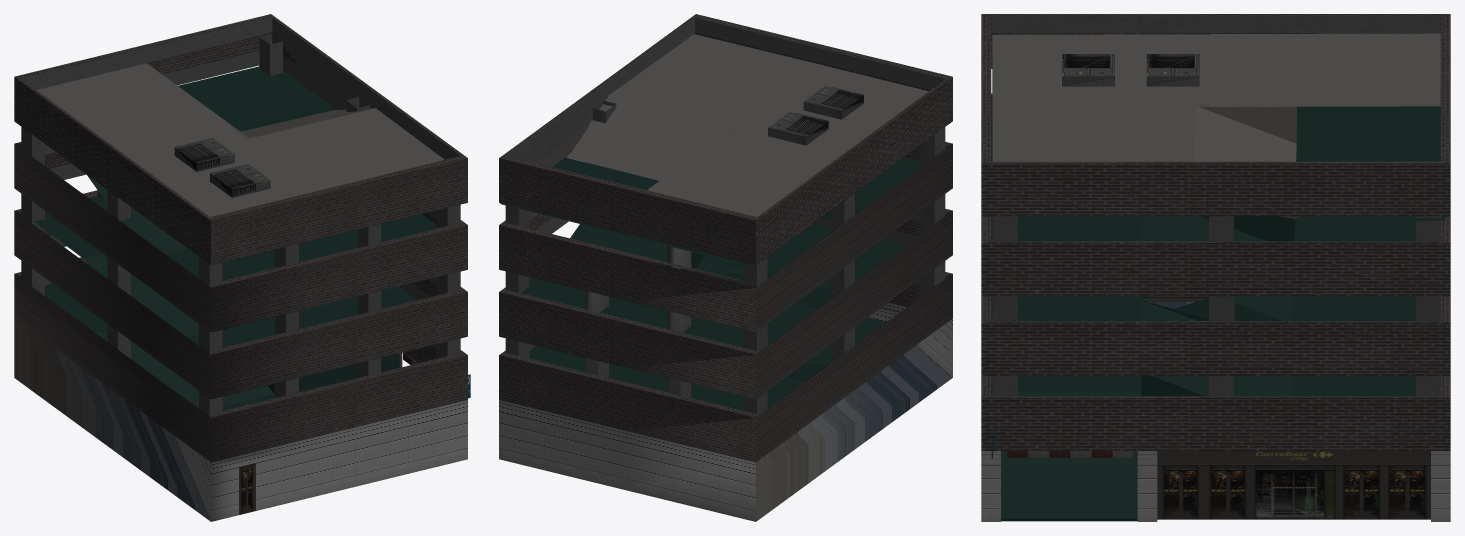
File: edificio.5.fbx
The picture shows the model from 3 angles, left to right: view 1: azimuth 30°, elevation 25°; view 2: azimuth 150°, elevation 25°; view 3: azimuth 270°, elevation 25°; orthographic projection. The views are drawn at different scales.
Parts seen in each view (by area): view 1: Edificio_6.001, Cube; view 2: Edificio_6.001, Cube; view 3: Edificio_6.001, Cube.
Boxes of the visible parts, x1=… form: Edificio_6.001: x1=14, y1=14, x2=470, y2=521; Cube: x1=35, y1=66, x2=436, y2=410; Edificio_6.001: x1=499, y1=14, x2=952, y2=521; Cube: x1=500, y1=157, x2=921, y2=410; Edificio_6.001: x1=981, y1=14, x2=1450, y2=521; Cube: x1=991, y1=106, x2=1445, y2=521.
Bounding box in the file's own units: 1380 × 1504 × 1783.
2 materials, 1 textured.
